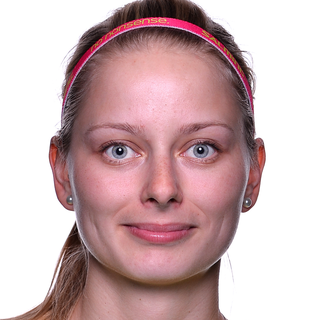eye: (92, 139, 147, 164), (175, 138, 224, 163)
